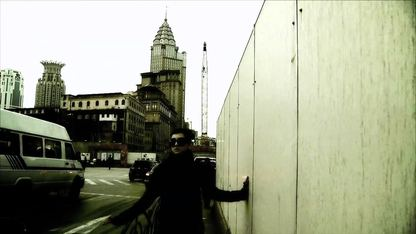bus: (0, 105, 89, 201)
car: (129, 159, 157, 183)
